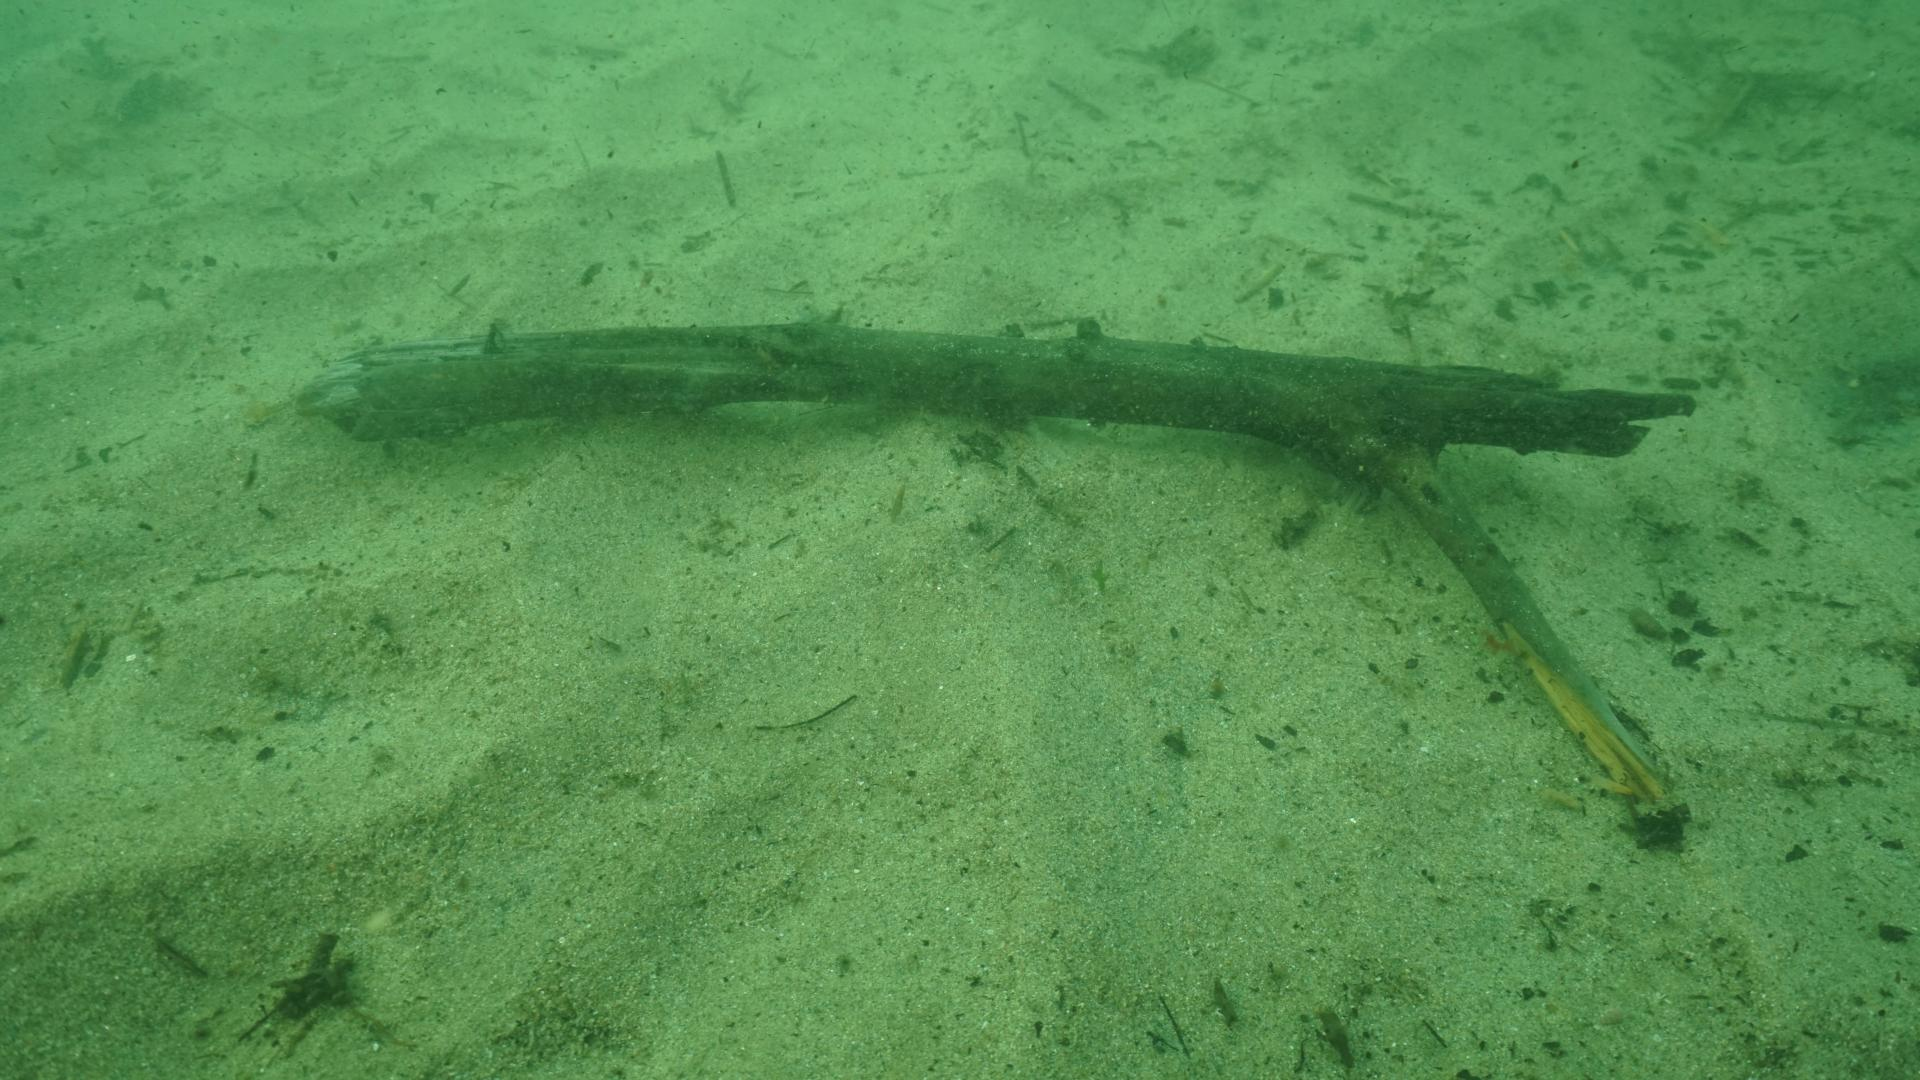wood: (287, 326, 1697, 839)
